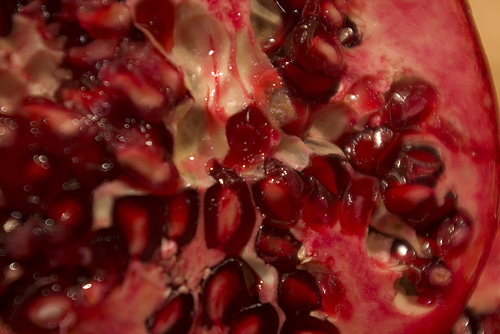pomogranate: (0, 1, 499, 333)
